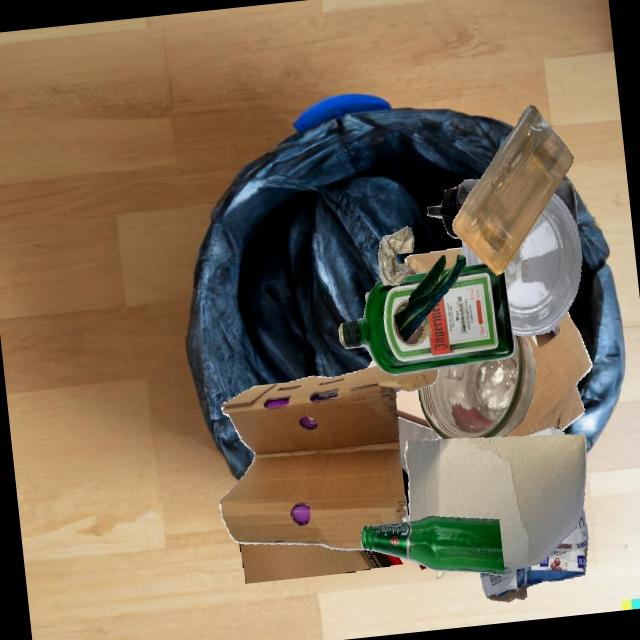biowaste: (393, 254, 466, 341)
cardboard: (218, 365, 438, 550), (404, 434, 586, 568), (407, 275, 536, 439), (479, 506, 588, 601), (239, 542, 402, 583), (503, 365, 592, 436)
combustible waste: (395, 389, 433, 430)
glass: (338, 263, 514, 375), (418, 334, 536, 439), (361, 516, 505, 576)
paper: (377, 226, 414, 285), (365, 292, 369, 302)
plastic: (452, 104, 573, 275), (504, 192, 582, 336), (427, 179, 479, 240), (400, 452, 427, 567), (397, 416, 440, 475), (554, 180, 578, 231), (401, 467, 408, 518)
